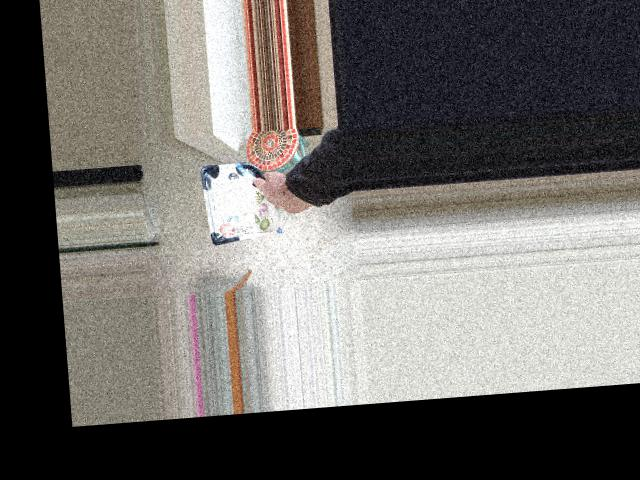cheese: (215, 156, 309, 242)
